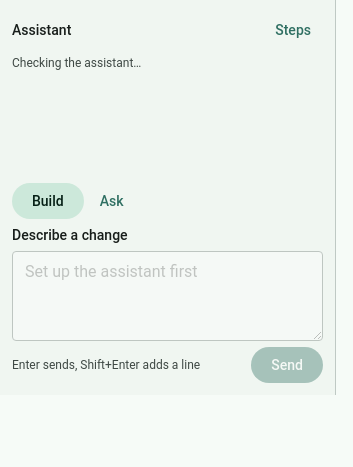
Test: assistant Undo through the history › asks the history to undo with the revision Apply produced, and does not write itself
The image size is (353, 467).
Type "add a step" into the text box at (168, 296), box [12,251,323,341]
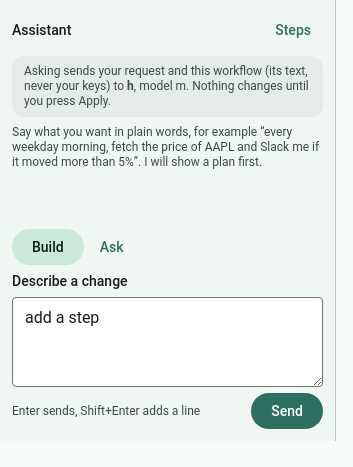
Press Enter in the text box, box [12,297,323,387]
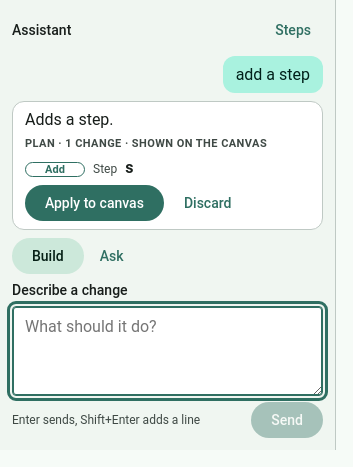
Click the button "Apply to canvas" at (94, 203), box [25,185,164,221]
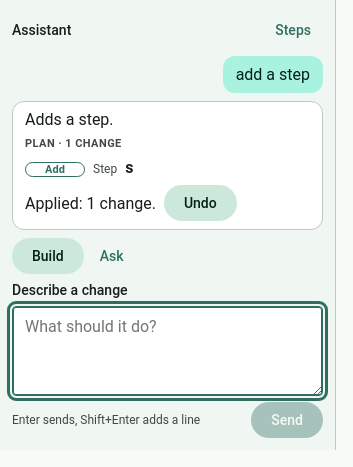
Expected: the text "Applied: 1 change." is shown, [25,194,156,212]
Click the button "Undo" at (200, 203), box [164,185,237,221]
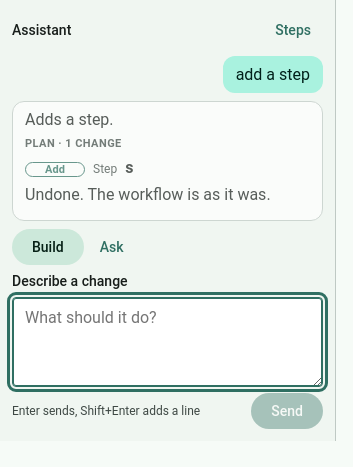
Expected: the text "Undone. The workflow is as it was." is shown, [25,185,310,204]
